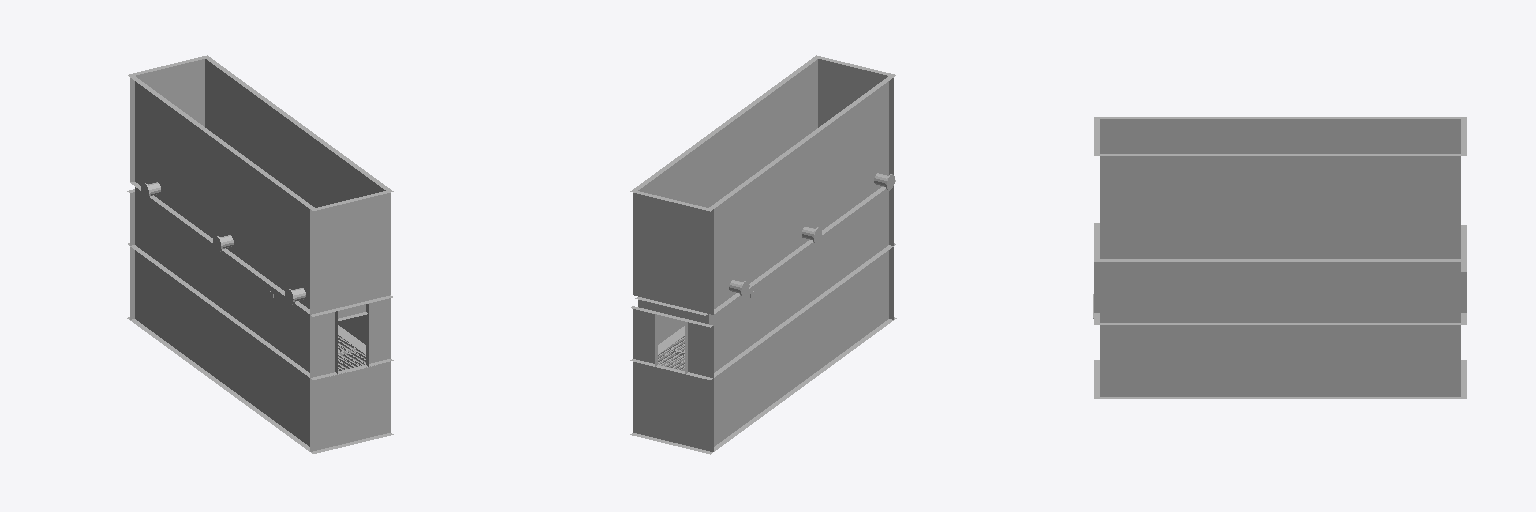
The model's file is HC_room2_pipes.obj.
The picture shows the model from 3 angles: view 1: azimuth 30°, elevation 25°; view 2: azimuth 150°, elevation 25°; view 3: azimuth 270°, elevation 25°; orthographic projection.
Parts seen in each view (by area): view 1: room2pipes_opt.001; view 2: room2pipes_opt.001; view 3: room2pipes_opt.001.
Boxes of the visible parts, box(x1,y1,x2,y2) form: room2pipes_opt.001: box(127, 55, 393, 453); room2pipes_opt.001: box(630, 55, 896, 454); room2pipes_opt.001: box(1093, 117, 1466, 398).
Size of the model in its own units: 5.68 by 14.73 by 20.5.